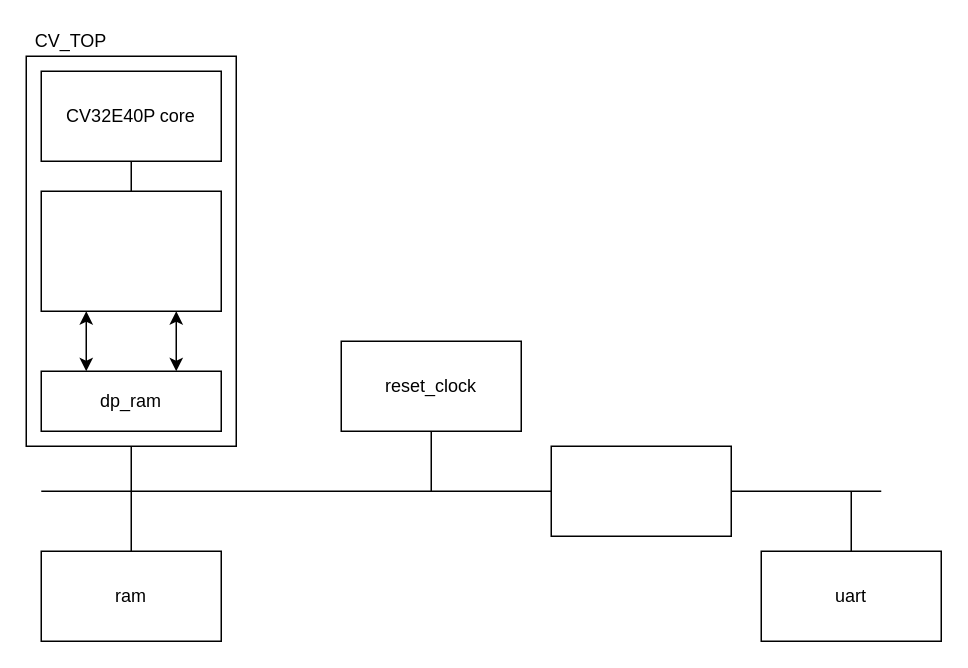
Some shapes in this 968 by 668 pixel diagram are drawn without their labels. The centre of each missing label's shape, as x and y in pixels:
"ahb2apb" belongs at pixel 640 490.
"mm_ram" belongs at pixel 130 250.
